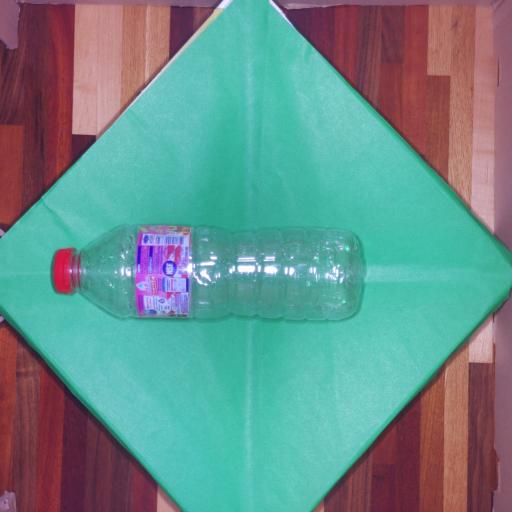bottle: (22, 198, 378, 342)
